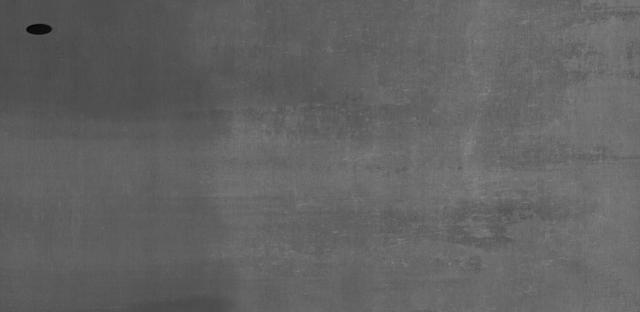punching_hole: (21, 18, 56, 38)
